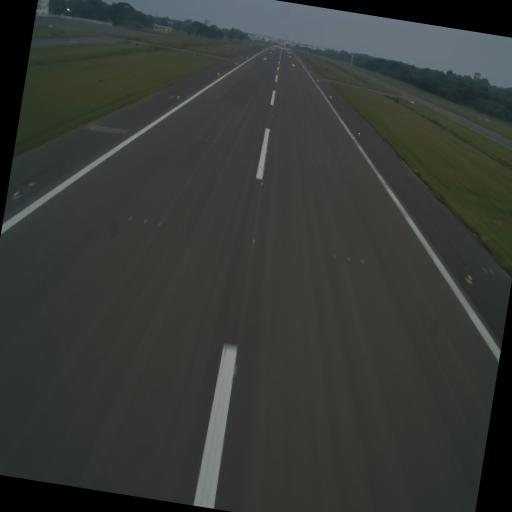off: (139, 212, 150, 230), (126, 209, 136, 225), (328, 246, 338, 262), (344, 252, 353, 268), (358, 252, 366, 269), (154, 216, 163, 230)
on: (7, 184, 23, 206), (228, 359, 242, 382), (460, 267, 475, 288), (249, 229, 260, 247), (256, 176, 266, 189), (263, 146, 269, 158)
